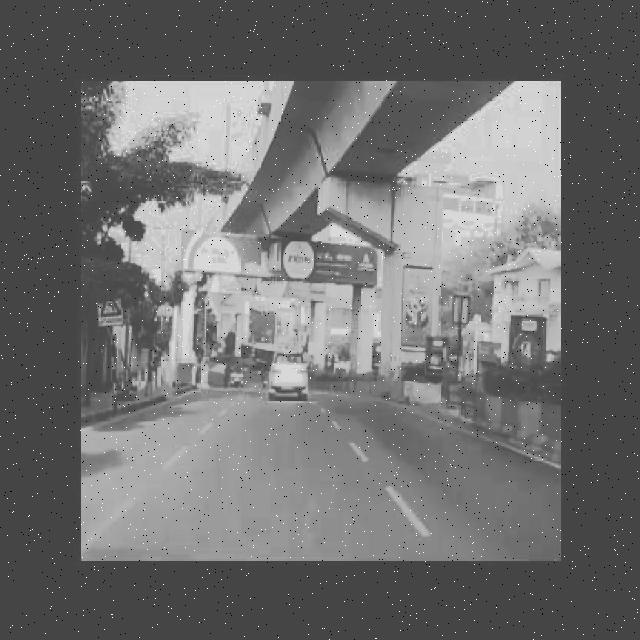Car: (263, 346, 317, 394)
